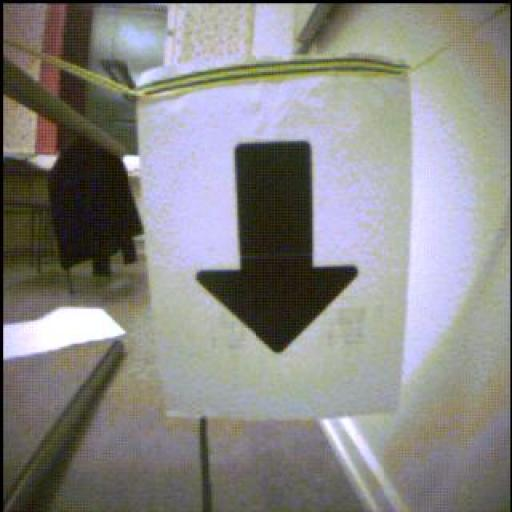arrow: (198, 142, 358, 353)
